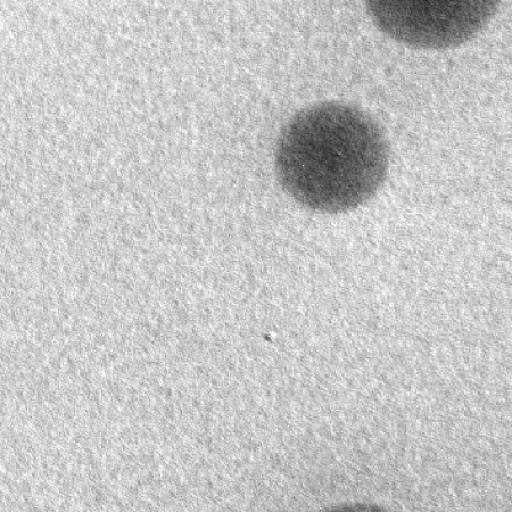Nanoparticles: (276, 98, 399, 221), (365, 0, 507, 50)
